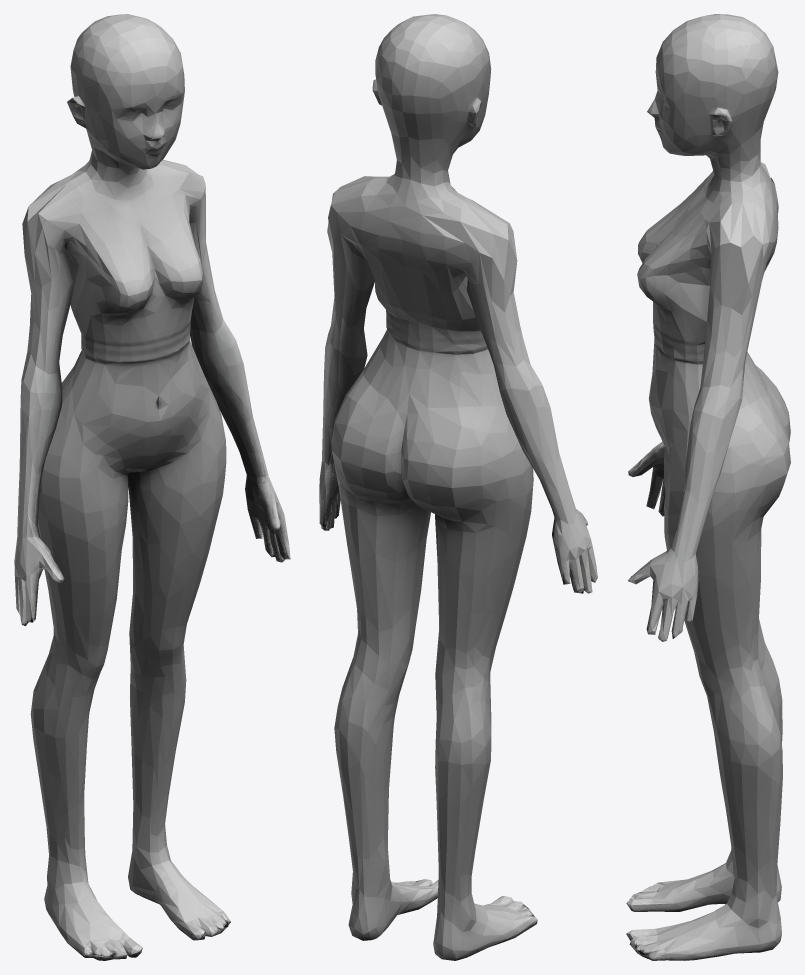
The model's file is female-down.glb.
3 views of the same model, side by side, from view 1: azimuth 30°, elevation 25°; view 2: azimuth 150°, elevation 25°; view 3: azimuth 270°, elevation 25° (orthographic).
Visible parts, largest first — view 1: world; view 2: world; view 3: world.
Part boxes in pixels (left/top/right/bottom): world: left=14, top=14, right=290, bottom=960; world: left=319, top=14, right=597, bottom=960; world: left=626, top=14, right=790, bottom=960.
Bounding box in the file's own units: 0.307 × 1 × 0.1649.
Materials: 1 (1 with a texture image).
